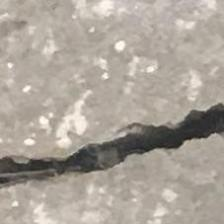Crack: (0, 99, 224, 199)
